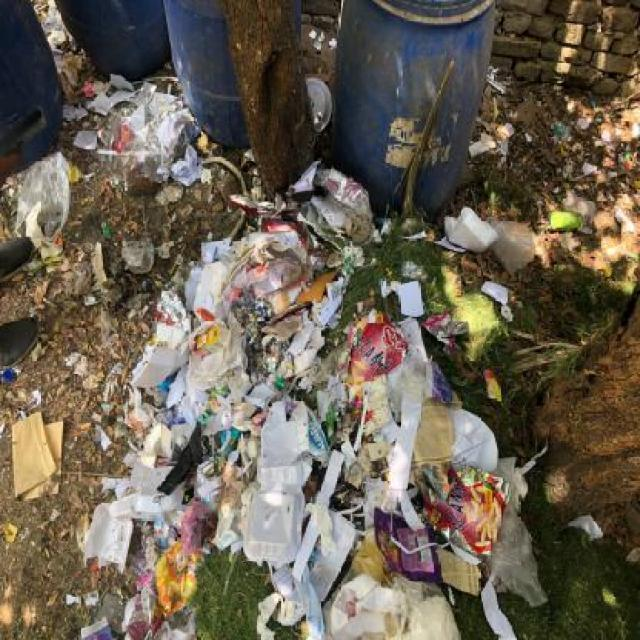garbage: (2, 218, 541, 640), (65, 68, 236, 198), (483, 63, 640, 164), (31, 0, 105, 86), (546, 208, 600, 252)
